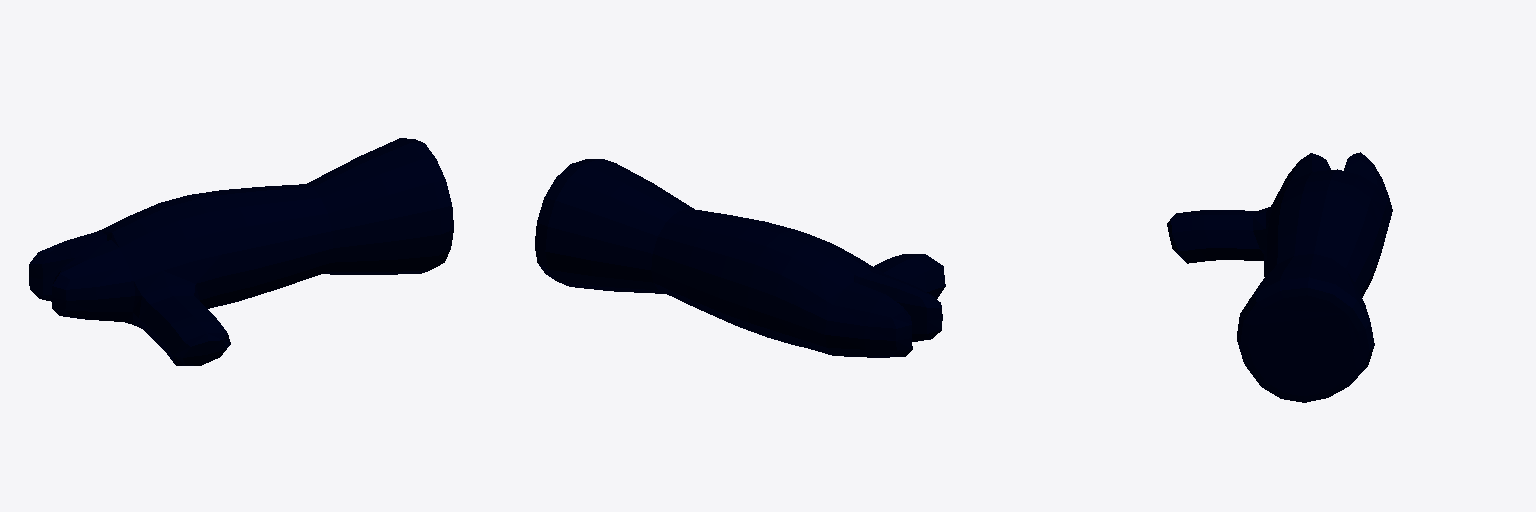
File: R_hand.obj
3 views of the same model, side by side, from view 1: azimuth 30°, elevation 25°; view 2: azimuth 150°, elevation 25°; view 3: azimuth 270°, elevation 25° (orthographic).
Parts seen in each view (by area): view 1: R_hand:Mesh; view 2: R_hand:Mesh; view 3: R_hand:Mesh.
Part boxes in pixels (bbox=[...]): R_hand:Mesh: bbox=[29, 138, 453, 365]; R_hand:Mesh: bbox=[535, 159, 945, 357]; R_hand:Mesh: bbox=[1167, 152, 1392, 402].
Size of the model in its own units: 1.05 by 0.3247 by 0.5421.